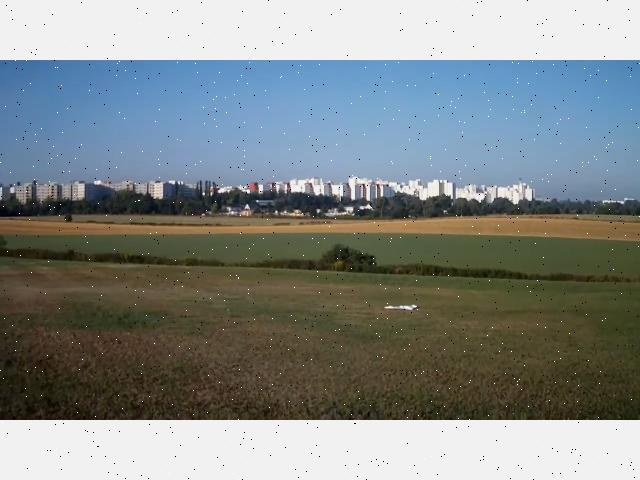Anti-Drone: (374, 297, 432, 319)
